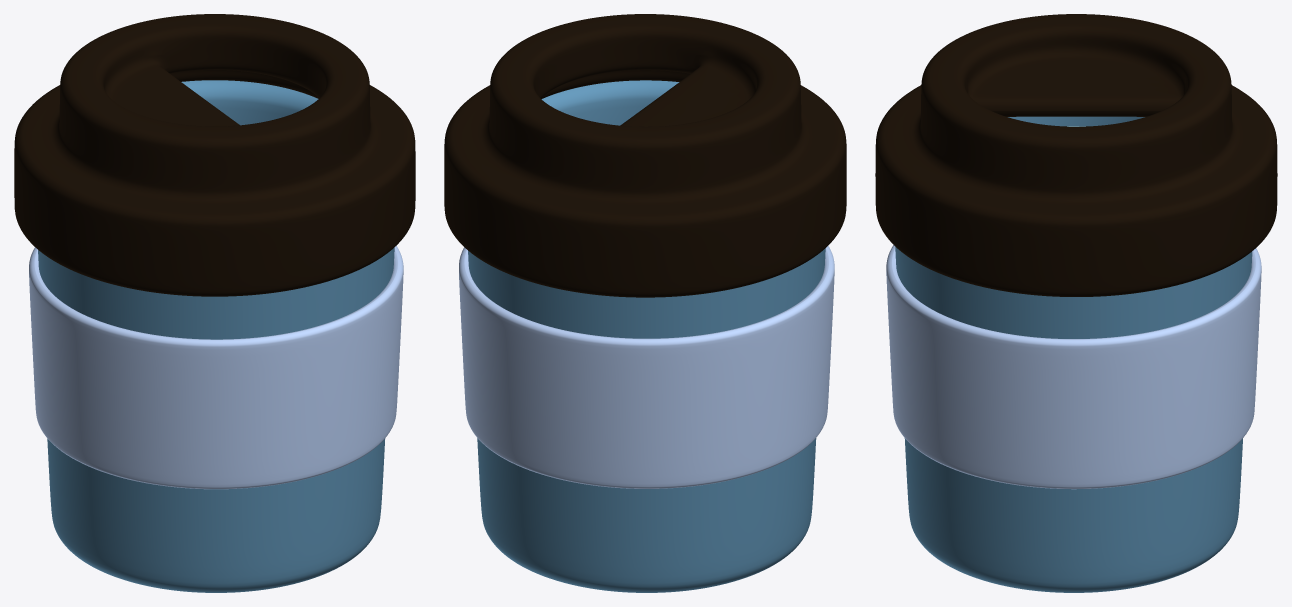
Rendered from coffeecupbrown.fbx.
The picture shows the model from 3 angles, left to right: view 1: azimuth 30°, elevation 25°; view 2: azimuth 150°, elevation 25°; view 3: azimuth 270°, elevation 25°; orthographic projection.
Parts seen in each view (by area): view 1: BlueberryCup, BlueberryCup-Sleeve, BlueberryCup-Body; view 2: BlueberryCup, BlueberryCup-Sleeve, BlueberryCup-Body; view 3: BlueberryCup, BlueberryCup-Sleeve, BlueberryCup-Body.
Part boxes in pixels (x1,y1,x2,y2): BlueberryCup: (14, 14, 415, 296); BlueberryCup-Sleeve: (29, 246, 403, 489); BlueberryCup-Body: (38, 80, 394, 592); BlueberryCup: (444, 14, 846, 297); BlueberryCup-Sleeve: (459, 246, 834, 488); BlueberryCup-Body: (468, 80, 825, 592); BlueberryCup: (875, 14, 1277, 296); BlueberryCup-Sleeve: (886, 245, 1261, 489); BlueberryCup-Body: (895, 116, 1252, 592).
Bounding box in the file's own units: 62.04 × 77.41 × 62.04.
